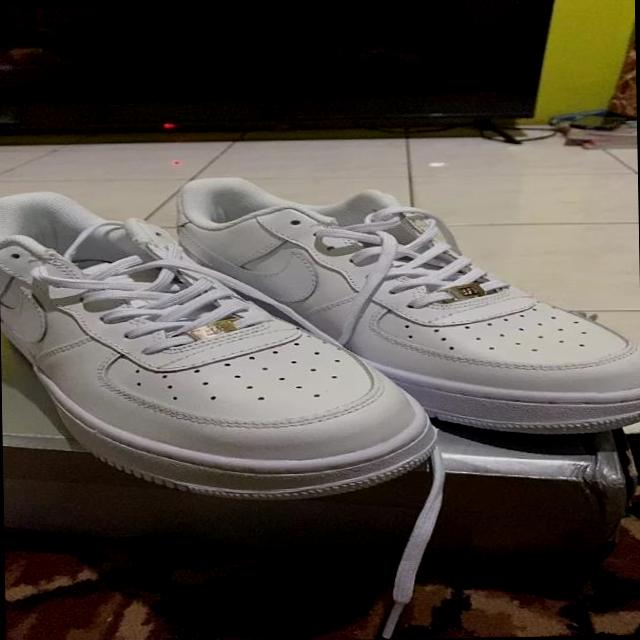nike_fake_airforce: (0, 185, 445, 501), (173, 165, 640, 439)
